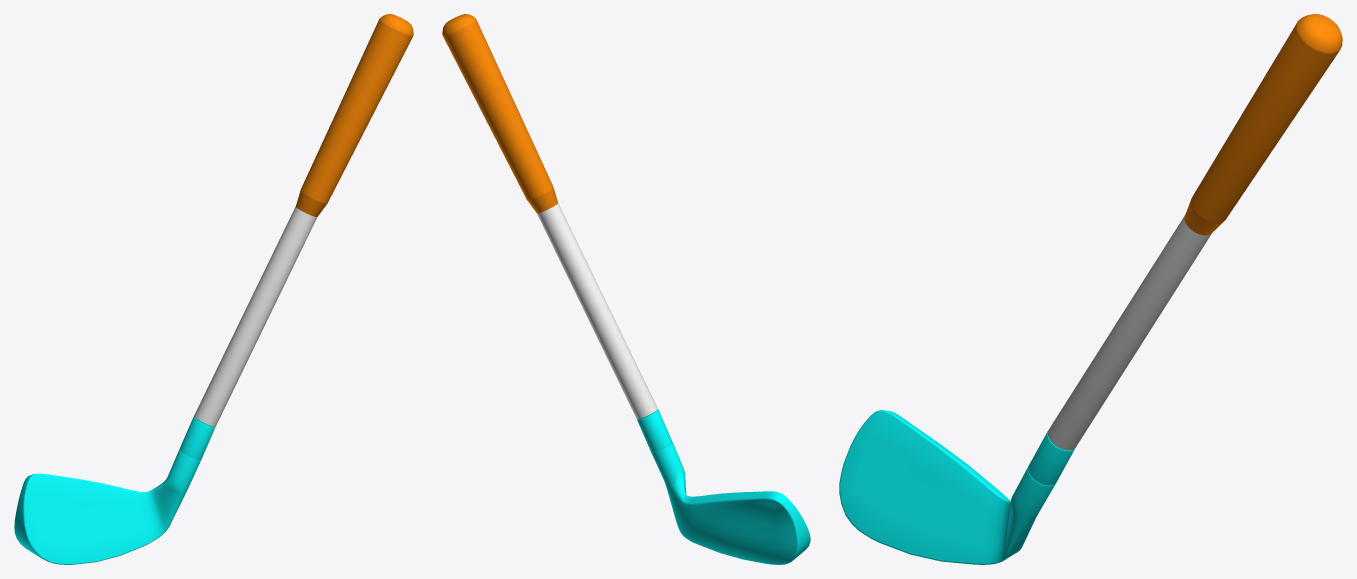
The model's file is golf_clubs 1.fbx.
3 renders of one model, left to right at view 1: azimuth 30°, elevation 25°; view 2: azimuth 150°, elevation 25°; view 3: azimuth 330°, elevation 25°, orthographic. The views are drawn at different scales.
Visible parts, largest first — view 1: golf_clubs; view 2: golf_clubs; view 3: golf_clubs.
Part boxes in pixels (x1=…): golf_clubs: x1=14, y1=14, x2=413, y2=564; golf_clubs: x1=442, y1=14, x2=810, y2=564; golf_clubs: x1=839, y1=14, x2=1342, y2=564.
Bounding box in the file's own units: 533 × 634 × 79.58.
